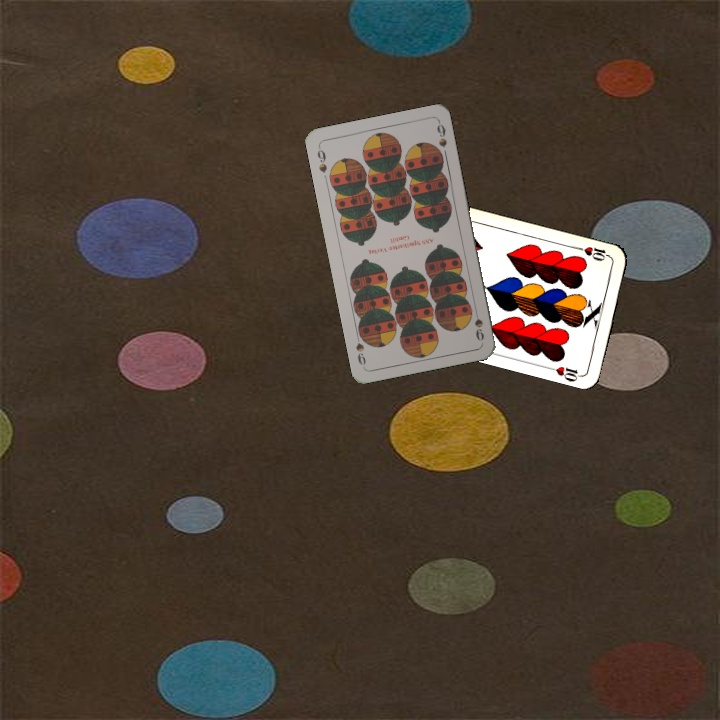H10: (574, 242, 614, 264)
S9: (470, 303, 486, 344), (313, 142, 330, 175)
